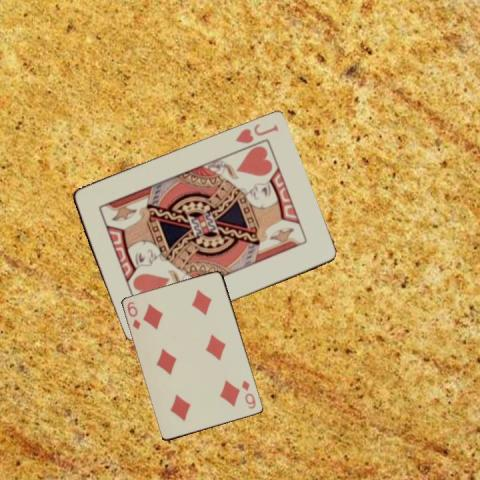6d: (239, 377, 257, 410), (125, 299, 142, 331)
Jh: (232, 122, 280, 146)
